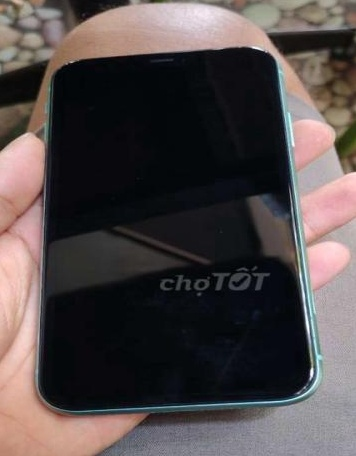scratch: (184, 295, 263, 396)
